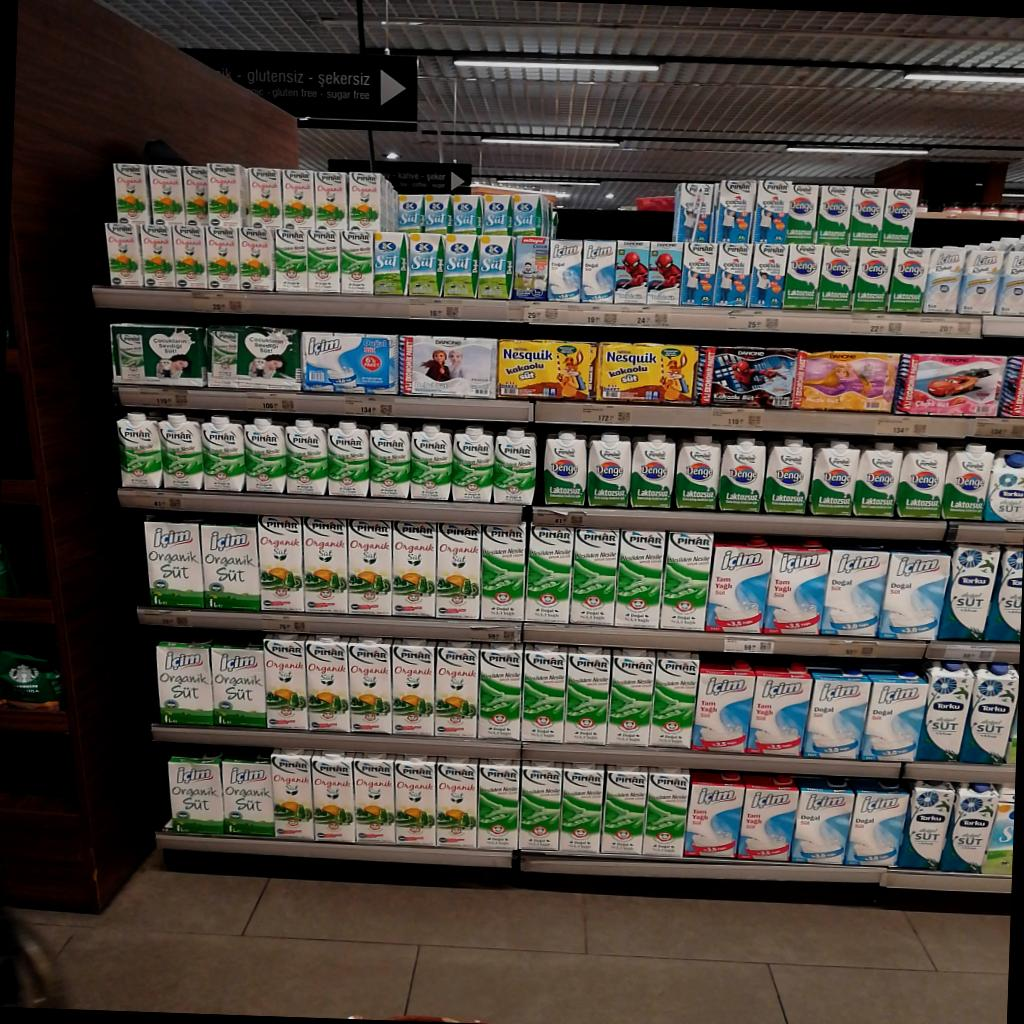price_tag: (908, 312, 982, 342), (726, 307, 789, 336), (505, 298, 564, 327), (406, 295, 469, 321), (850, 310, 908, 338), (618, 303, 671, 329), (190, 290, 246, 314), (566, 303, 619, 327), (872, 415, 928, 437), (712, 407, 763, 430), (969, 418, 1023, 439), (581, 405, 632, 425), (244, 393, 296, 412), (724, 635, 775, 654), (535, 508, 585, 527), (137, 390, 189, 407), (944, 645, 996, 662), (345, 399, 395, 416), (470, 625, 519, 642), (263, 616, 309, 633), (834, 640, 878, 657), (143, 612, 191, 627), (148, 492, 182, 509)
product: (894, 353, 1005, 416), (819, 542, 890, 637), (592, 341, 698, 404), (878, 548, 950, 640), (802, 666, 871, 759), (705, 539, 773, 633), (795, 350, 899, 411), (745, 662, 812, 756), (761, 543, 830, 634), (859, 670, 928, 760), (496, 338, 596, 400), (696, 346, 795, 408), (110, 323, 208, 385), (399, 335, 497, 397), (301, 330, 397, 393), (207, 325, 300, 390), (691, 659, 755, 753), (959, 662, 1018, 763), (843, 778, 909, 867), (938, 544, 999, 640), (916, 660, 974, 760), (790, 776, 854, 864), (144, 516, 204, 607), (199, 521, 260, 610), (736, 774, 798, 861), (660, 530, 713, 629), (684, 770, 743, 858), (940, 783, 997, 873), (897, 780, 954, 869), (210, 638, 266, 727), (614, 529, 664, 628), (156, 639, 213, 724), (649, 651, 698, 748), (525, 524, 573, 623), (570, 528, 619, 624), (606, 649, 654, 746), (168, 749, 223, 833), (563, 647, 610, 744), (257, 516, 304, 611), (435, 523, 481, 619), (222, 753, 274, 837), (521, 645, 566, 742), (302, 518, 348, 612), (347, 520, 393, 614), (391, 522, 436, 617), (263, 633, 307, 730), (482, 524, 526, 620), (477, 644, 521, 739), (305, 638, 349, 732), (558, 763, 604, 852), (600, 765, 646, 854), (435, 642, 478, 737), (347, 641, 391, 733), (391, 641, 434, 735), (896, 441, 947, 518), (311, 753, 355, 842), (940, 444, 992, 519), (518, 761, 560, 853), (762, 437, 812, 514), (643, 772, 688, 857), (271, 750, 313, 841), (808, 440, 858, 516), (352, 755, 395, 843), (436, 756, 477, 848), (478, 760, 518, 849), (984, 548, 1022, 641), (394, 758, 435, 844), (853, 442, 900, 516), (674, 435, 720, 510), (718, 439, 765, 512), (158, 412, 202, 489), (116, 412, 161, 487), (541, 430, 586, 505), (630, 433, 675, 508), (493, 427, 536, 505), (201, 414, 244, 491), (285, 417, 327, 495), (244, 416, 286, 493), (452, 425, 494, 502), (587, 432, 630, 507), (411, 423, 452, 500), (328, 420, 369, 496), (346, 170, 397, 231), (370, 421, 410, 498), (958, 249, 1005, 314), (886, 247, 932, 313), (921, 247, 966, 314), (981, 787, 1014, 875), (207, 163, 248, 227), (167, 224, 207, 288), (852, 246, 891, 311), (748, 243, 787, 307), (751, 179, 790, 243), (784, 244, 822, 309), (715, 180, 754, 243), (104, 222, 142, 286), (713, 243, 751, 307), (817, 245, 855, 309), (672, 182, 713, 241), (407, 232, 444, 297), (512, 235, 549, 300), (139, 224, 176, 288), (679, 242, 716, 306), (476, 235, 512, 299), (147, 164, 186, 223), (112, 162, 150, 222), (547, 238, 582, 303), (442, 234, 478, 297), (880, 188, 918, 247), (238, 228, 274, 290), (273, 228, 307, 292), (338, 230, 372, 294), (581, 239, 615, 303), (816, 185, 852, 245), (205, 226, 239, 289), (306, 229, 340, 292), (372, 231, 406, 294), (614, 241, 648, 304), (246, 167, 282, 226), (848, 187, 884, 246), (992, 250, 1024, 316), (647, 243, 681, 305), (314, 171, 347, 228), (786, 183, 816, 244), (282, 170, 314, 227), (511, 191, 552, 235), (998, 356, 1024, 417), (182, 165, 207, 227), (450, 194, 481, 233), (481, 195, 512, 234), (422, 194, 450, 233), (398, 194, 422, 231)
